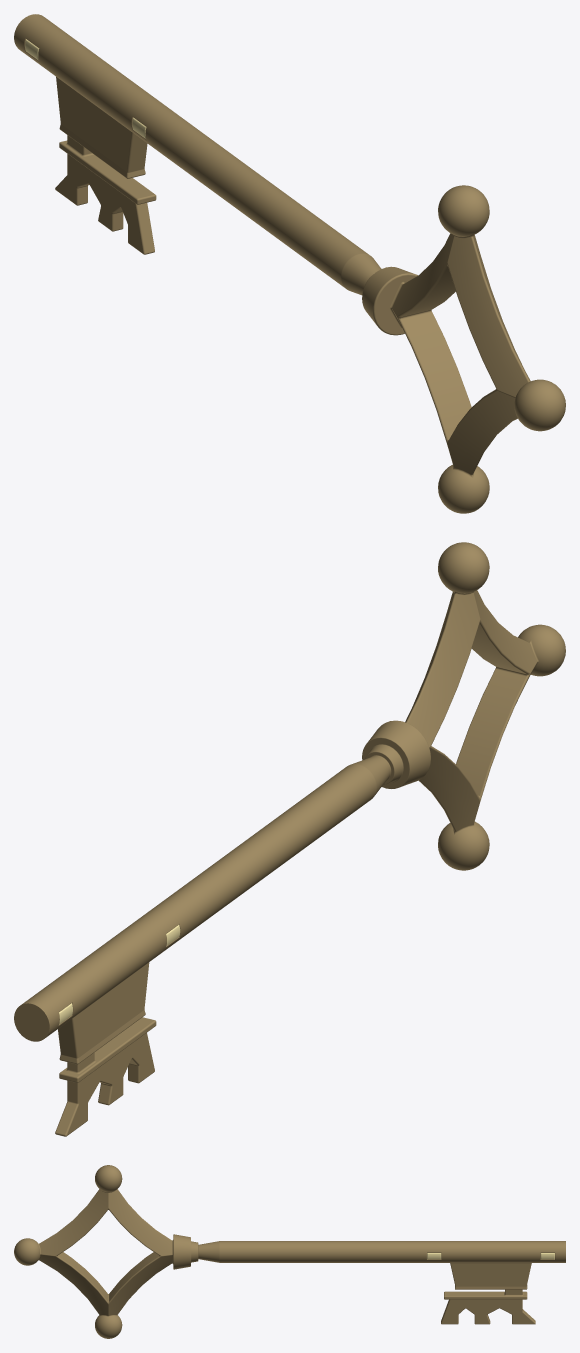
File: uploads_files_2869396_basement+key+v2.fbx
The picture shows the model from 3 angles, top to bottom: view 1: azimuth 30°, elevation 25°; view 2: azimuth 150°, elevation 25°; view 3: azimuth 270°, elevation 25°; orthographic projection. The views are drawn at different scales.
Visible parts, largest first — view 1: Body3; view 2: Body3; view 3: Body3.
Boxes of the visible parts, x1,y1,x2,y2 form: Body3: (14, 14, 565, 513); Body3: (14, 542, 565, 1136); Body3: (14, 1165, 565, 1338).
Size of the model in its own units: 9.9 by 52.96 by 155.
